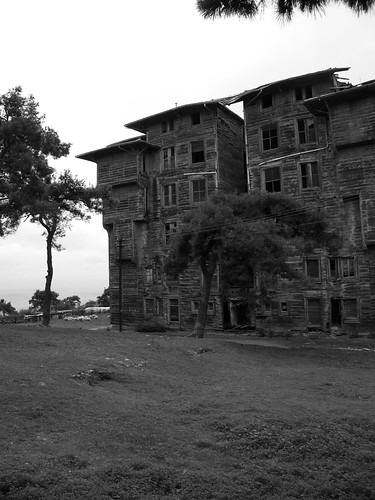building: (253, 77, 375, 338), (97, 94, 232, 325)
grass: (1, 331, 375, 500)
sky: (1, 1, 363, 89)
tree: (173, 187, 321, 348), (1, 90, 100, 330)
